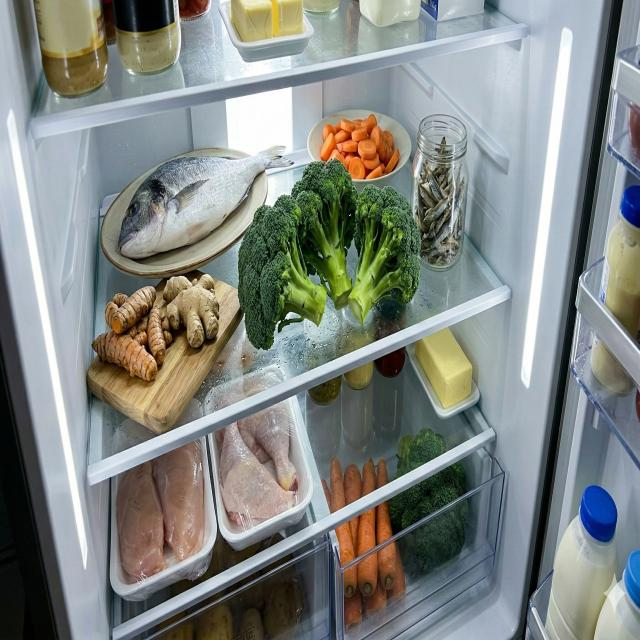anchovies: (414, 136, 465, 268)
brocolli: (237, 157, 421, 352), (388, 427, 468, 578)
carrot: (320, 456, 406, 638), (320, 114, 400, 180)
chicken: (117, 438, 204, 583), (218, 401, 299, 528)
fish: (118, 144, 295, 260)
ginger: (163, 274, 220, 348)
turmeric: (91, 285, 166, 382)
